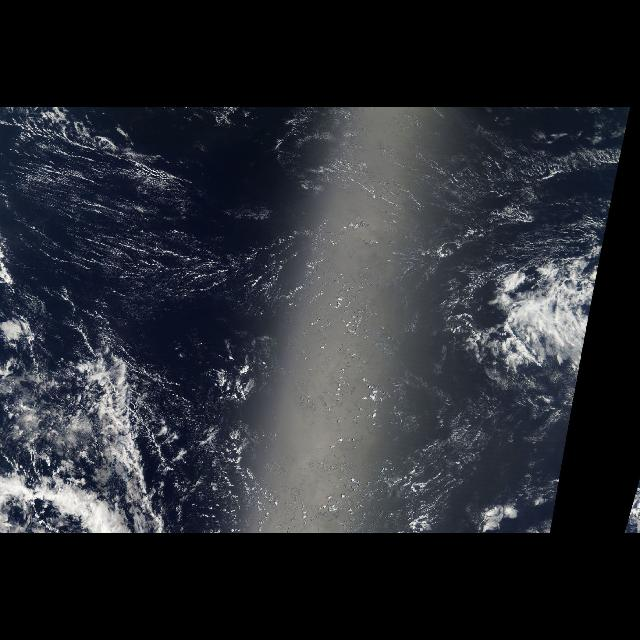Sugar: (26, 123, 322, 319), (185, 408, 562, 528), (336, 133, 626, 283)
